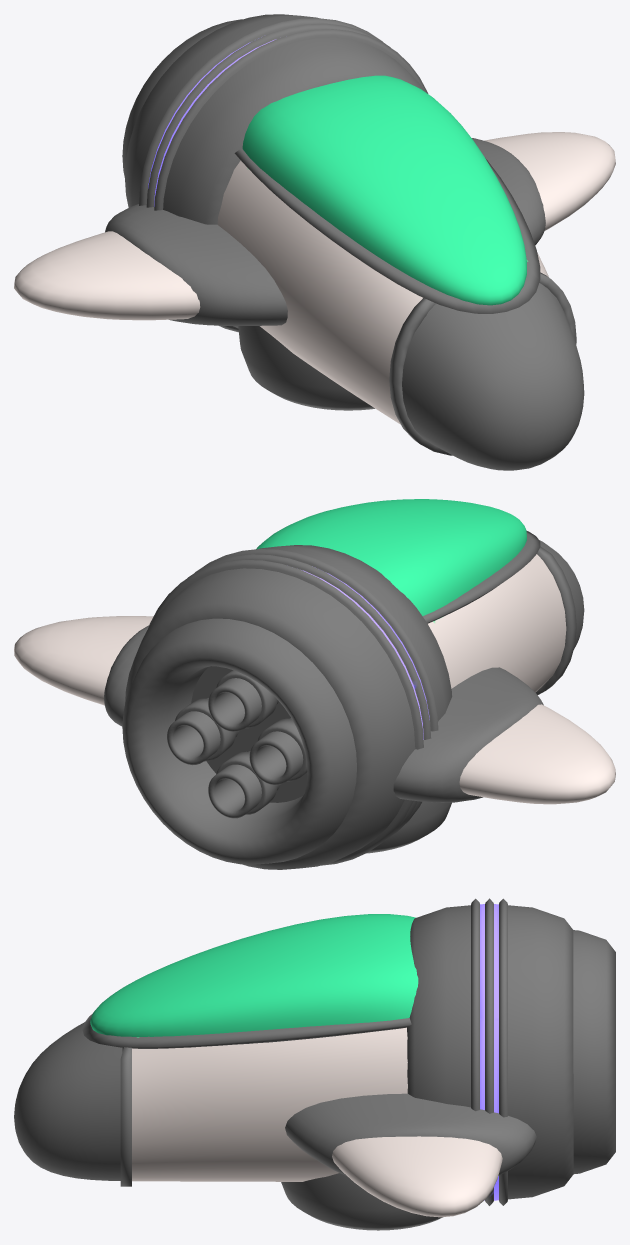
The model's file is Ship.fbx.
The picture shows the model from 3 angles, top to bottom: view 1: azimuth 30°, elevation 25°; view 2: azimuth 150°, elevation 25°; view 3: azimuth 270°, elevation 25°; orthographic projection. The views are drawn at different scales.
Parts seen in each view (by area): view 1: Ship; view 2: Ship; view 3: Ship.
Boxes of the visible parts, x1,y1,x2,y2 form: Ship: (14,14,615,470); Ship: (14,499,615,869); Ship: (14,898,615,1230).
Size of the model in its own units: 459 by 226 by 433.
